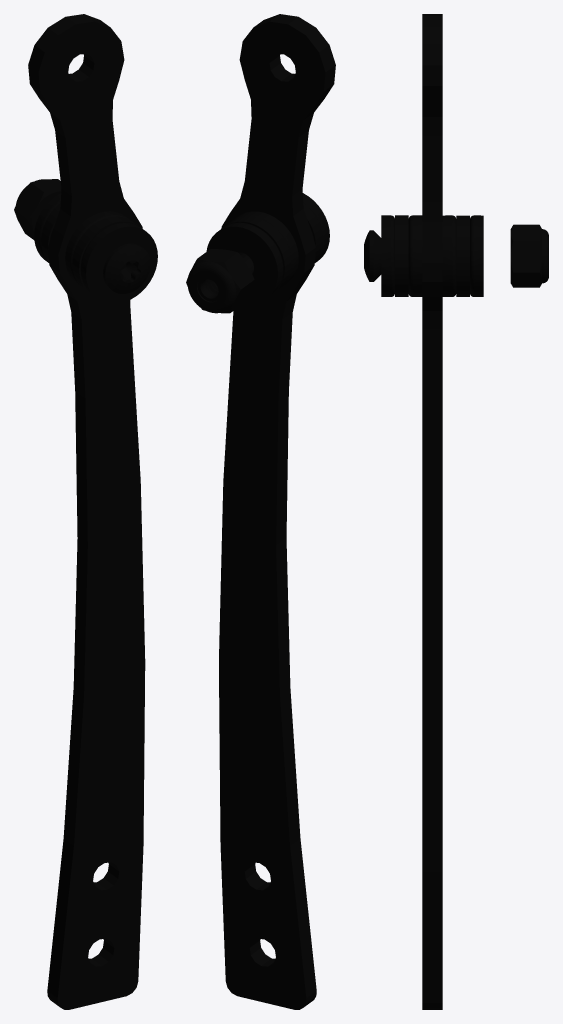
The model's file is rf3_black.dae.
3 views of the same model, side by side, from view 1: azimuth 30°, elevation 25°; view 2: azimuth 150°, elevation 25°; view 3: azimuth 270°, elevation 25° (orthographic).
Parts seen in each view (by area): view 1: rf3; view 2: rf3; view 3: rf3.
Part boxes in pixels (x1,y1,x2,y2): rf3: [14, 14, 157, 1009]; rf3: [186, 14, 335, 1009]; rf3: [364, 14, 548, 1009].
Bounding box in the file's own units: 0.0089 × 0.0136 × 0.0784.
1 material, 1 textured.
